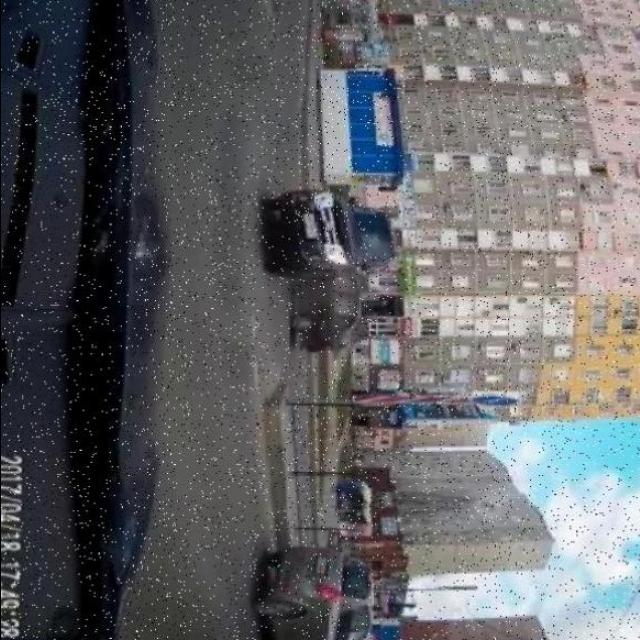accident: (259, 185, 397, 355)
